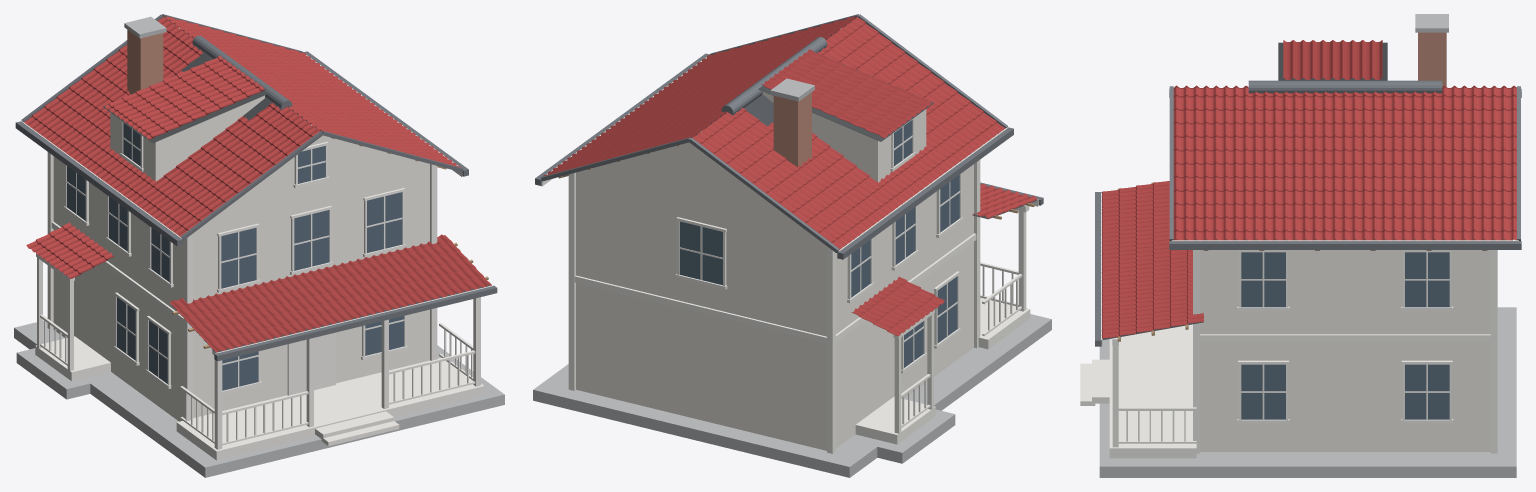
Rendered from Hermosa_Tile_Compact_Porch_House.glb.
The picture shows the model from 3 angles, left to right: view 1: azimuth 30°, elevation 25°; view 2: azimuth 150°, elevation 25°; view 3: azimuth 270°, elevation 25°; orthographic projection. The views are drawn at different scales.
Parts seen in each view (by area): view 1: Main_Walls, Porch_Deck_Front, Foundation_Main, RoofSheet_13, RoofSheet_14, Gable_Wall_Front, RoofSheet_08, RoofSheet_16, RoofSheet_09, RoofSheet_15, Gutter_Porch, RoofSheet_17 (+56 smaller); view 2: Main_Walls, Foundation_Main, Gable_Wall_Back, RoofSheet_14, RoofSheet_08, RoofSheet_09, RoofSheet_16, RoofSheet_15, RoofSheet_13, SecondFloor_BandTrim, RoofSheet_10, Base_Chimney (+39 smaller); view 3: Main_Walls, Foundation_Main, Porch_Deck_Front, RoofSheet_06, RoofSheet_04, RoofSheet_02, RoofSheet_01, RoofSheet_03, RoofSheet_05, RoofSheet_07, Gutter_Right, Ridge_Cap (+26 smaller).
Boxes of the visible parts, x1=… form: Main_Walls: x1=53, y1=156, x2=429, y2=421; Porch_Deck_Front: x1=176, y1=357, x2=484, y2=460; Foundation_Main: x1=14, y1=320, x2=504, y2=477; RoofSheet_13: x1=137, y1=103, x2=298, y2=221; RoofSheet_14: x1=160, y1=116, x2=319, y2=237; Gable_Wall_Front: x1=226, y1=124, x2=419, y2=208; RoofSheet_08: x1=24, y1=17, x2=184, y2=137; RoofSheet_16: x1=127, y1=72, x2=265, y2=139; RoofSheet_09: x1=46, y1=33, x2=202, y2=154; RoofSheet_15: x1=105, y1=55, x2=241, y2=123; Gutter_Porch: x1=214, y1=285, x2=497, y2=361; RoofSheet_17: x1=169, y1=295, x2=255, y2=352; Main_Walls: x1=576, y1=164, x2=973, y2=450; Foundation_Main: x1=533, y1=314, x2=1051, y2=477; Gable_Wall_Back: x1=586, y1=131, x2=791, y2=219; RoofSheet_14: x1=835, y1=17, x2=1005, y2=145; RoofSheet_08: x1=692, y1=122, x2=861, y2=249; RoofSheet_09: x1=714, y1=108, x2=885, y2=232; RoofSheet_16: x1=787, y1=49, x2=931, y2=120; RoofSheet_15: x1=761, y1=67, x2=907, y2=137; RoofSheet_13: x1=818, y1=34, x2=981, y2=162; SecondFloor_BandTrim: x1=574, y1=233, x2=976, y2=343; RoofSheet_10: x1=768, y1=122, x2=909, y2=215; Base_Chimney: x1=773, y1=92, x2=811, y2=167; Main_Walls: x1=1200, y1=250, x2=1490, y2=451; Foundation_Main: x1=1099, y1=307, x2=1516, y2=477; Porch_Deck_Front: x1=1109, y1=324, x2=1196, y2=458; RoofSheet_06: x1=1419, y1=87, x2=1469, y2=240; RoofSheet_04: x1=1320, y1=91, x2=1370, y2=240; RoofSheet_02: x1=1221, y1=87, x2=1270, y2=240; RoofSheet_01: x1=1173, y1=87, x2=1221, y2=240; RoofSheet_03: x1=1271, y1=91, x2=1320, y2=240; RoofSheet_05: x1=1370, y1=91, x2=1419, y2=240; RoofSheet_07: x1=1469, y1=87, x2=1516, y2=240; Gutter_Right: x1=1169, y1=241, x2=1521, y2=249; Ridge_Cap: x1=1248, y1=80, x2=1442, y2=93.
Bounding box in the file's own units: 8.2 × 7.71 × 8.89.
